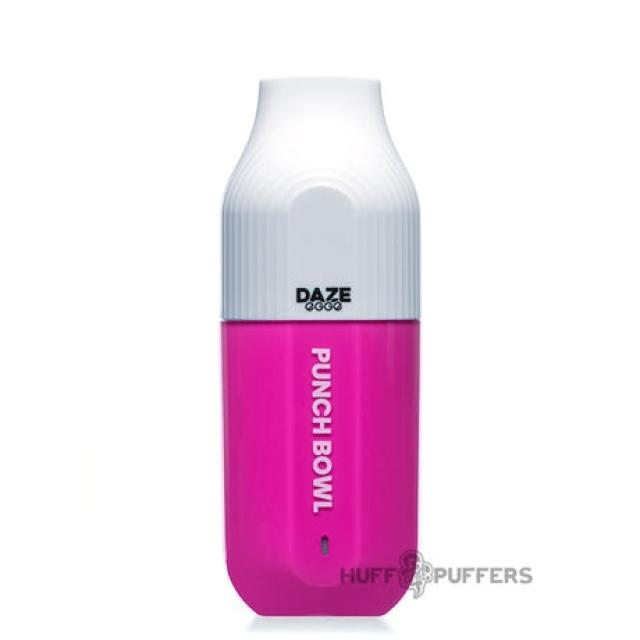Vape-images: (218, 73, 422, 618)
